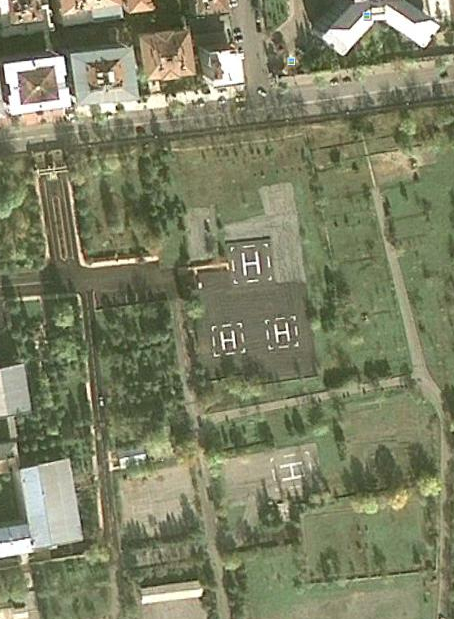heliport: (238, 248, 262, 278), (271, 321, 292, 344), (218, 328, 238, 351)
